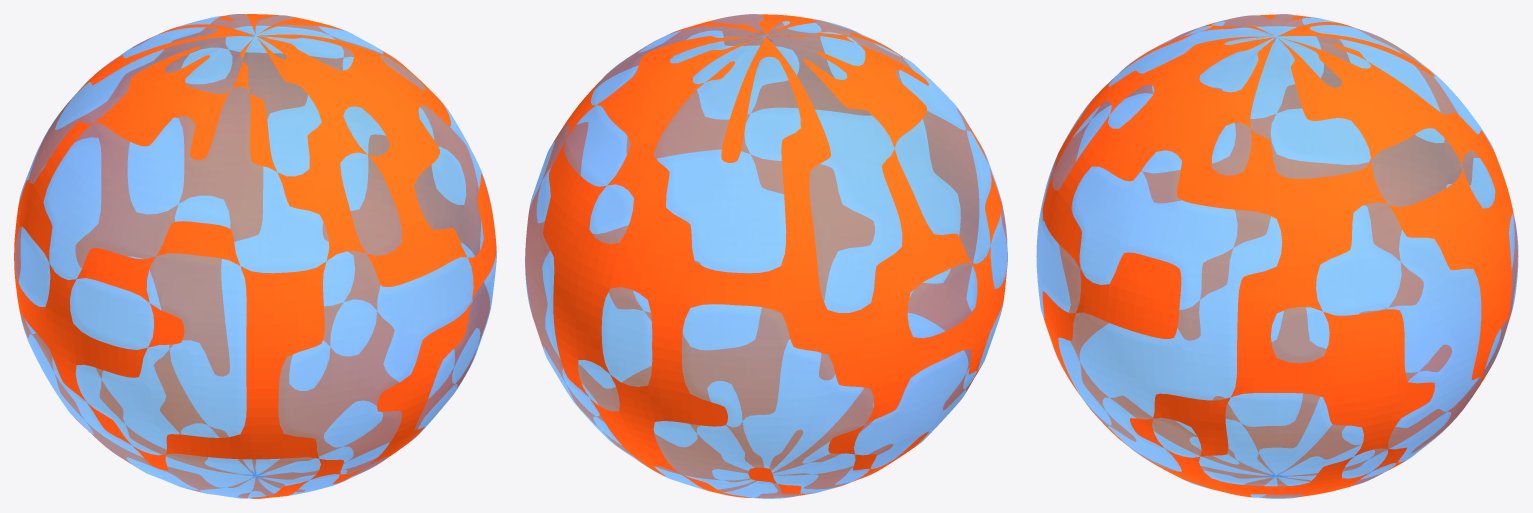
File: planetLiquid.fbx
3 renders of one model, left to right at view 1: azimuth 30°, elevation 25°; view 2: azimuth 150°, elevation 25°; view 3: azimuth 270°, elevation 25°, orthographic.
Visible parts, largest first — view 1: Sphere; view 2: Sphere; view 3: Sphere.
Part boxes in pixels (left/top/right/bottom): Sphere: left=14, top=14, right=496, bottom=498; Sphere: left=525, top=14, right=1007, bottom=498; Sphere: left=1036, top=14, right=1518, bottom=498.
Bounding box in the file's own units: 199 × 200 × 198.
